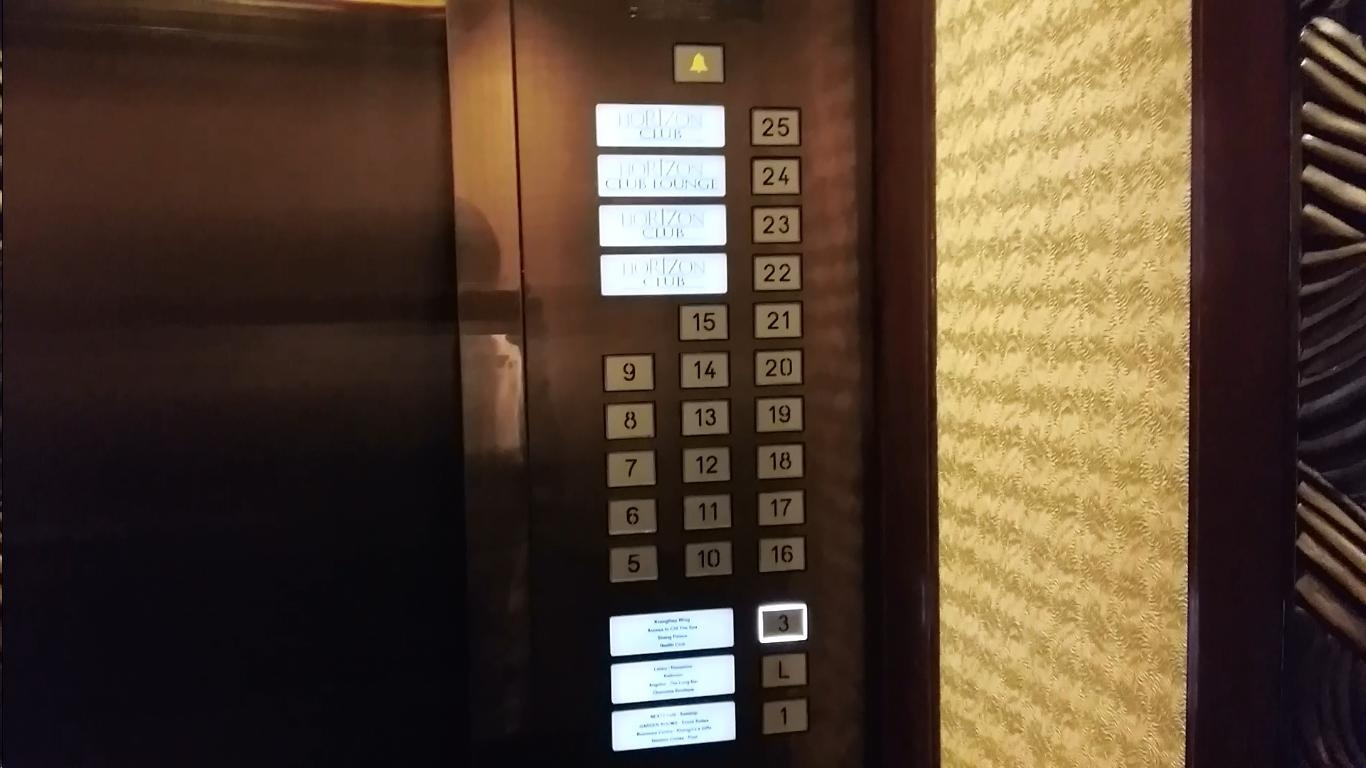1: (760, 696, 810, 735)
10: (682, 537, 733, 577)
11: (679, 489, 733, 530)
12: (679, 442, 732, 482)
13: (677, 396, 733, 437)
14: (676, 347, 732, 391)
15: (673, 298, 731, 343)
16: (754, 533, 808, 572)
17: (754, 485, 808, 528)
18: (753, 437, 809, 484)
19: (751, 392, 808, 434)
20: (750, 344, 807, 388)
21: (749, 297, 804, 340)
22: (749, 250, 804, 294)
23: (748, 201, 803, 246)
24: (747, 154, 804, 197)
25: (747, 102, 804, 147)
3: (752, 599, 811, 644)
5: (604, 540, 662, 585)
6: (602, 493, 661, 538)
7: (601, 444, 659, 489)
8: (598, 398, 659, 442)
9: (598, 348, 657, 394)
L: (758, 647, 810, 690)
alarm: (669, 41, 729, 86)
